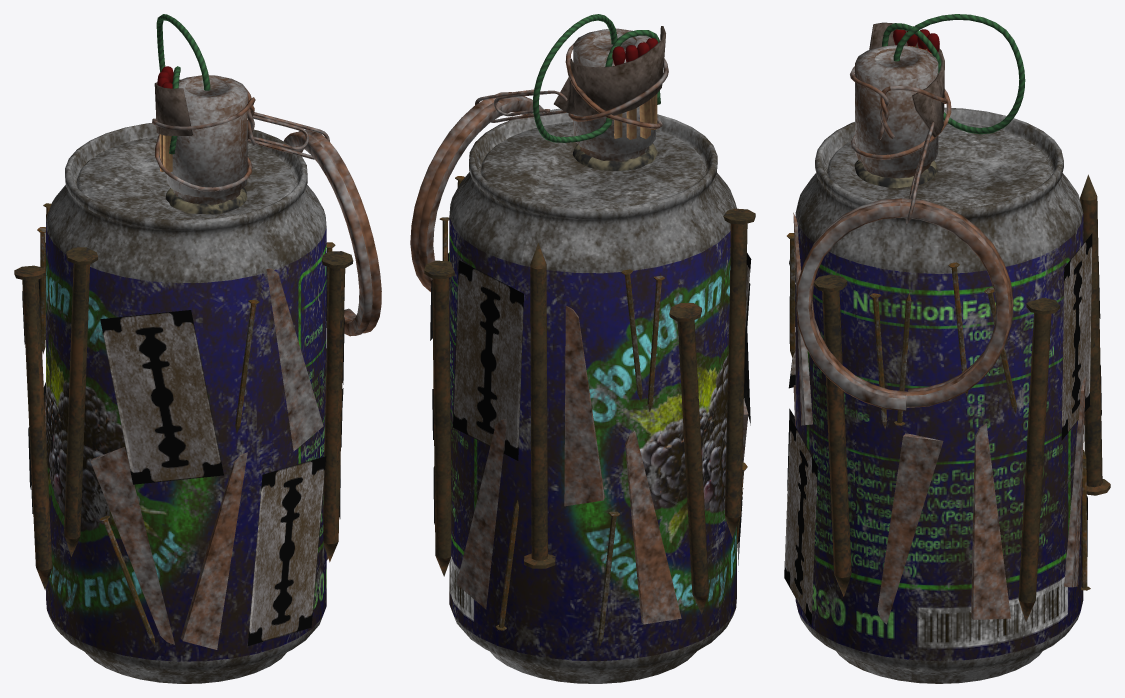
File: soda_can_grenade.glb
The picture shows the model from 3 angles, left to right: view 1: azimuth 30°, elevation 25°; view 2: azimuth 150°, elevation 25°; view 3: azimuth 270°, elevation 25°; orthographic projection. The views are drawn at different scales.
Visible parts, largest first — view 1: Object_3, Object_4, Object_2; view 2: Object_3, Object_4, Object_2; view 3: Object_3, Object_4, Object_2.
Boxes of the visible parts, x1=… form: Object_3: x1=46, y1=14, x2=326, y2=683; Object_4: x1=14, y1=203, x2=353, y2=649; Object_2: x1=154, y1=79, x2=381, y2=336; Object_3: x1=449, y1=14, x2=736, y2=683; Object_4: x1=424, y1=176, x2=755, y2=646; Object_2: x1=410, y1=26, x2=665, y2=291; Object_3: x1=795, y1=14, x2=1083, y2=683; Object_4: x1=784, y1=174, x2=1110, y2=625; Object_2: x1=795, y1=22, x2=1013, y2=410.
Bounding box in the file's own units: 0.0776 × 0.1583 × 0.0749.
Materials: 3 (3 with a texture image).
